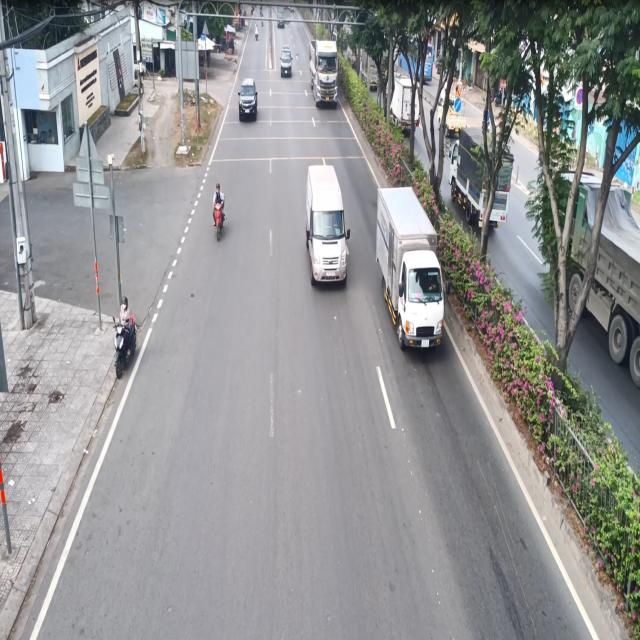car: (305, 163, 351, 297), (236, 72, 258, 131), (278, 41, 296, 83)
motor: (110, 300, 139, 373), (212, 182, 225, 238)
truck: (374, 183, 447, 358), (309, 34, 341, 112)
